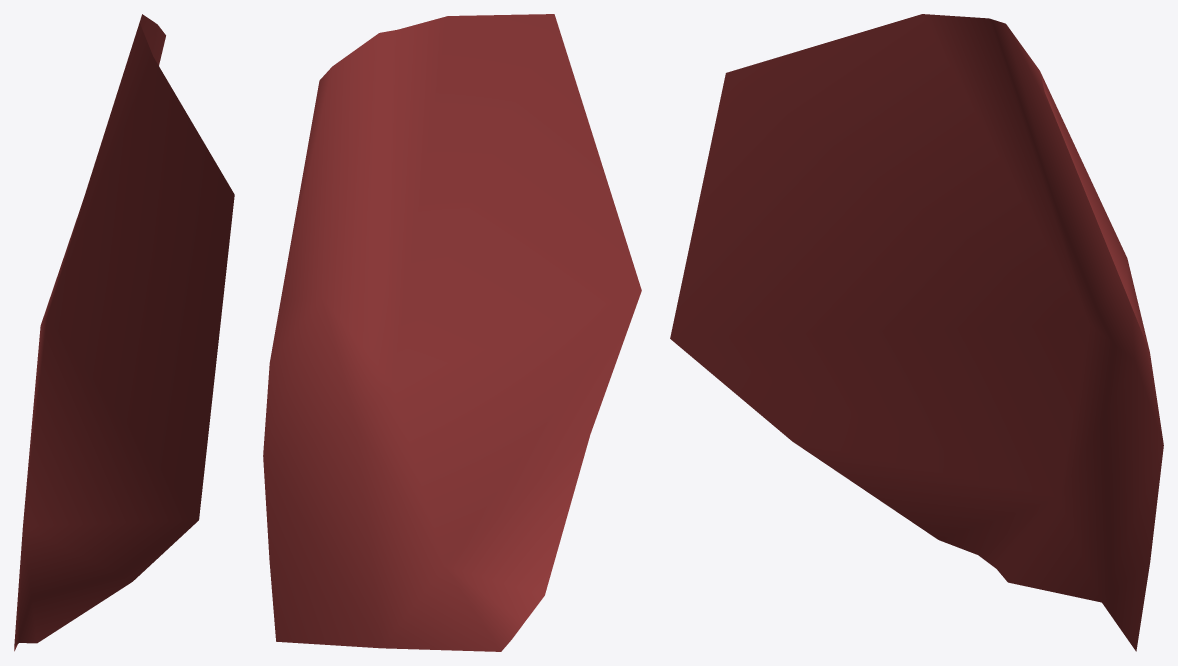
The model's file is longissimus-thoracis-muscle-er.glb.
3 renders of one model, left to right at view 1: azimuth 30°, elevation 25°; view 2: azimuth 150°, elevation 25°; view 3: azimuth 270°, elevation 25°, orthographic. The views are drawn at different scales.
Parts seen in each view (by area): view 1: Longissimus thoracis muscle.er; view 2: Longissimus thoracis muscle.er; view 3: Longissimus thoracis muscle.er.
Part boxes in pixels (x1,y1,x2,y2): Longissimus thoracis muscle.er: (14,14,234,651); Longissimus thoracis muscle.er: (263,14,641,651); Longissimus thoracis muscle.er: (670,14,1163,651).
Bounding box in the file's own units: 0.00293 × 0.0094 × 0.00676.
